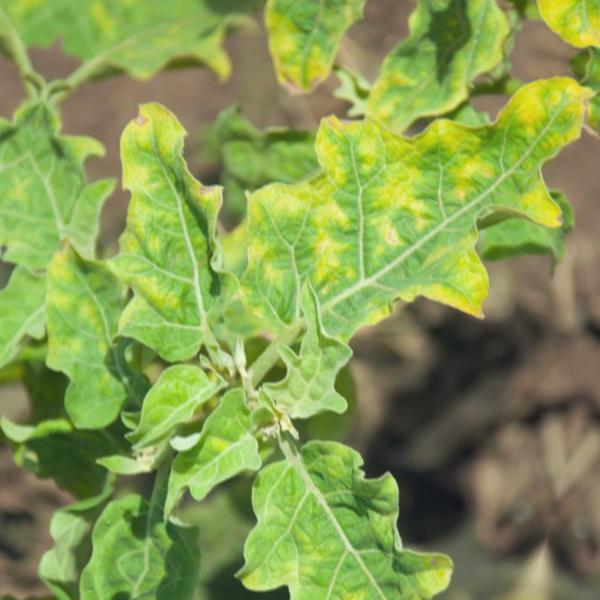Tomato leaf mosaic virus: (212, 2, 599, 412), (60, 84, 279, 385), (204, 426, 494, 600), (147, 381, 282, 534), (252, 274, 367, 436)
